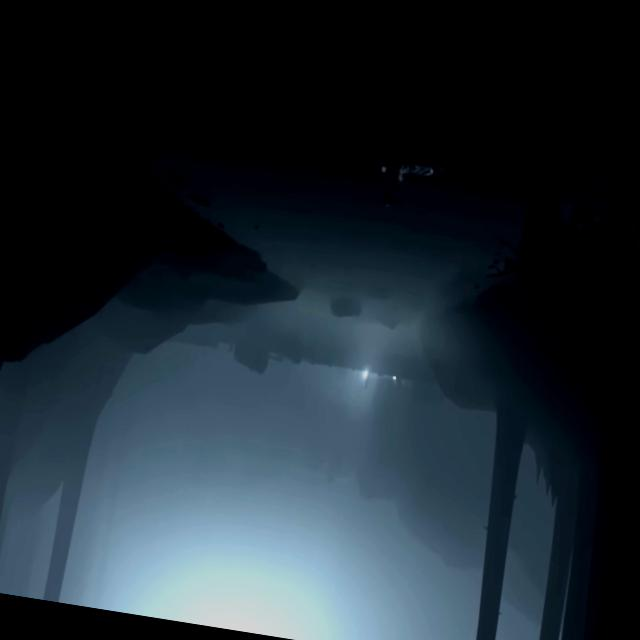boy: (376, 158, 406, 208)
